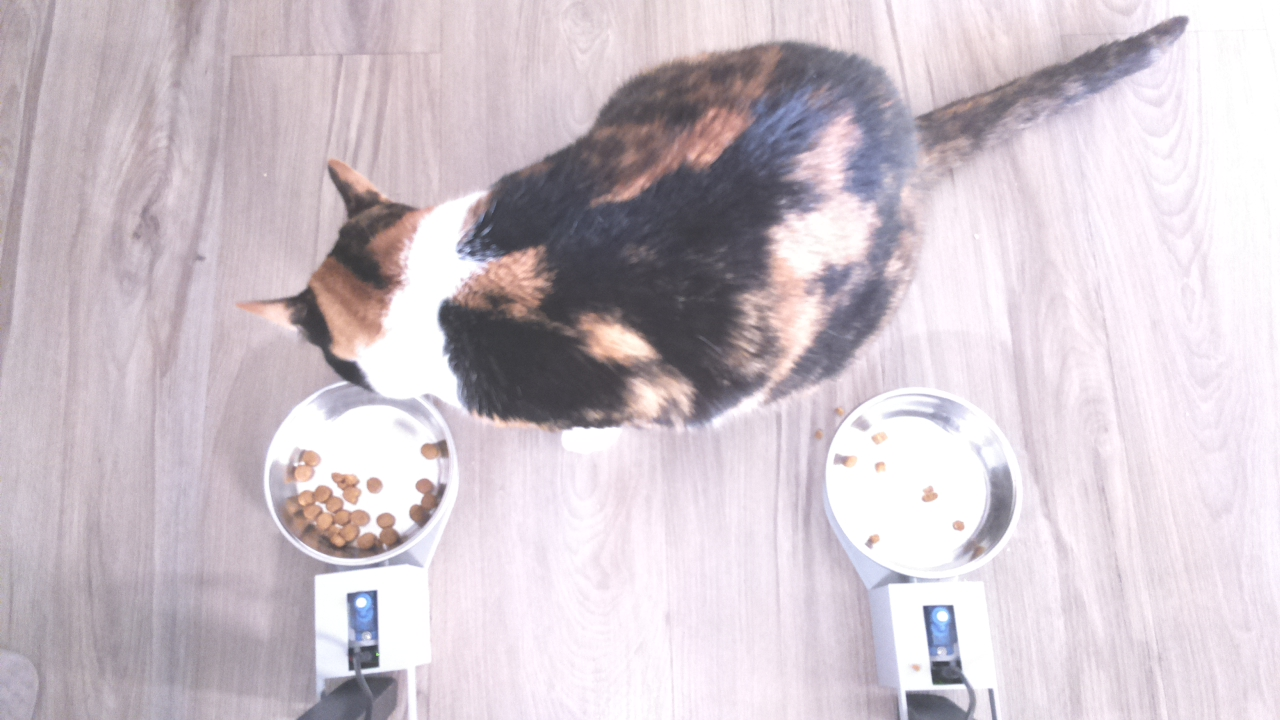bella: (237, 149, 512, 412)
open_bowl: (818, 380, 1028, 583), (256, 385, 466, 575)
